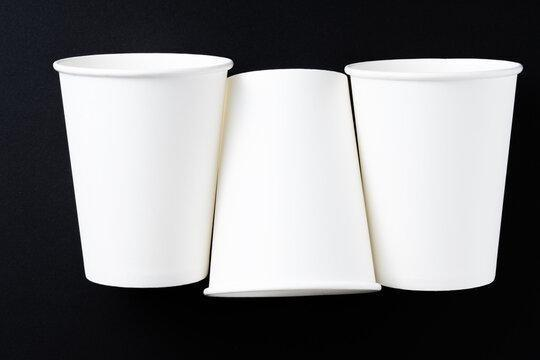cup-disposable: (51, 46, 234, 294), (343, 51, 526, 296), (204, 63, 381, 304)
